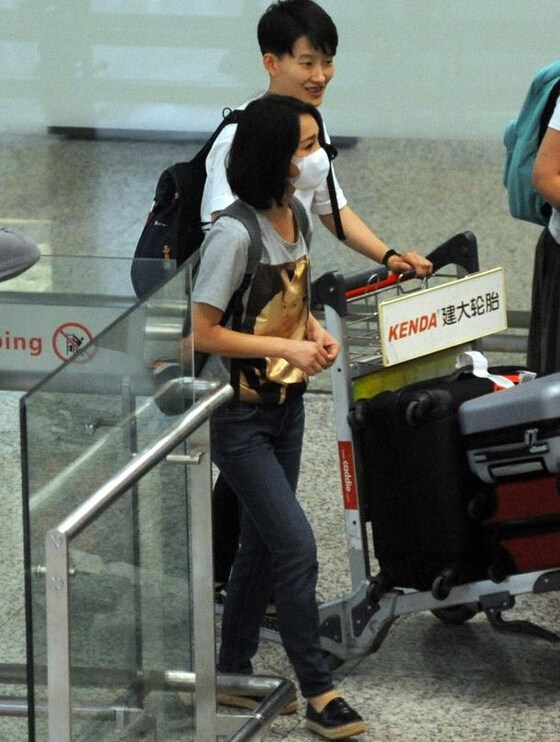face: (282, 33, 334, 108)
face_mask: (294, 115, 330, 186)
